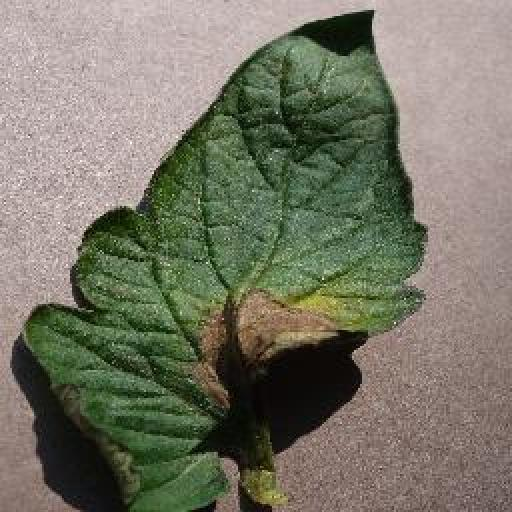disease_tomato: (24, 10, 430, 512)
